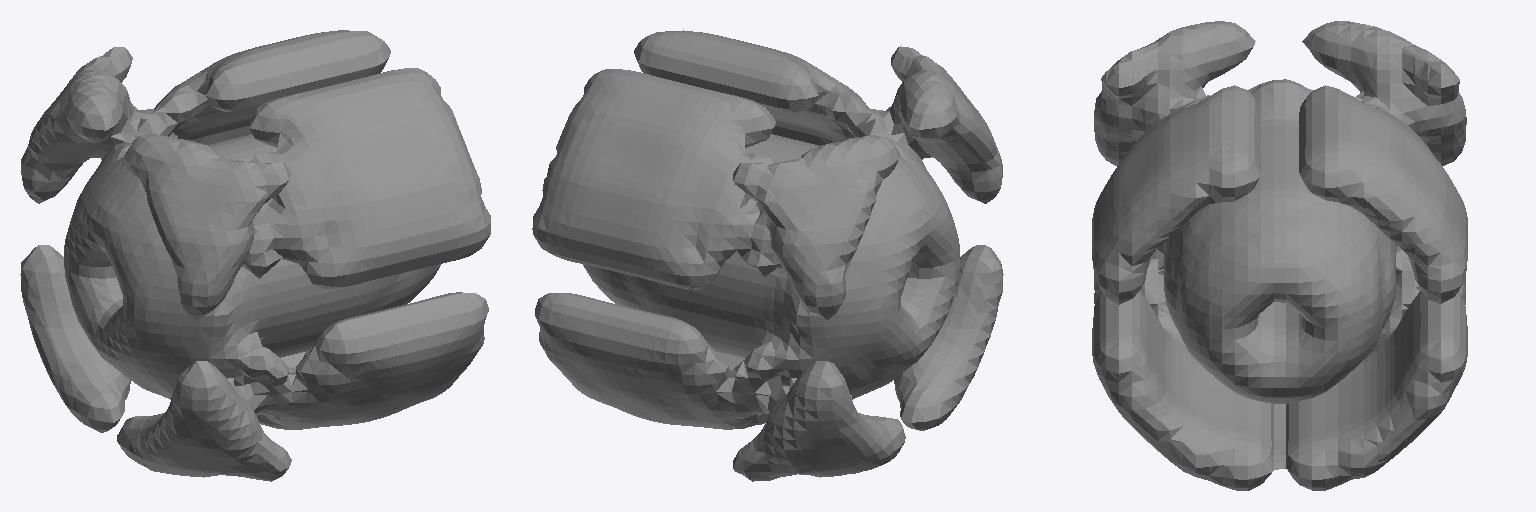
The robot description file, URDF, robot "cube.urdf":
<?xml version="0.0" ?> 
<robot name="cube.urdf"> 
<link name="legobrick"> 
<contact> 
<lateral_friction value="5.0"/> 
<rolling_friction value="0.0"/> 
<contact_cfm value="0.0"/> 
<contact_erp value="1.0"/> 
</contact> 
<inertial> 
<origin rpy="0 0 0" xyz="0.0 0.0 0.0"/> 
<mass value=".01"/> 
<inertia ixx="1" ixy="0" ixz="0" iyy="1" iyz="0" izz="1"/> 
</inertial> 
<visual> 
<origin rpy="1.570796 0 0" xyz="-0.0256472914953872 0.02593692212925499 -0.02562721110331979"/> 
<geometry> 
<mesh filename="I20_2.obj" scale="0.0006993021910813351 0.0006993021910813351 0.0006993021910813351"/> 
</geometry> 
<material name="yellow"> 
<color rgba="0.6 0.6 0.6 1"/> 
</material> 
</visual> 
<collision> 
<origin rpy="1.570796 0 0" xyz="-0.0256472914953872 0.02593692212925499 -0.02562721110331979"/> 
<geometry> 
<mesh filename="I20_2.obj" scale="0.0006993021910813351 0.0006993021910813351 0.0006993021910813351"/> 
</geometry> 
</collision> 
</link> 
</robot>

--- Facts derived from the render (not from the file) ---
Views: 3 orthographic renders of the robot side by side, from view 1: azimuth 30°, elevation 25°; view 2: azimuth 150°, elevation 25°; view 3: azimuth 270°, elevation 25°.
Robot: cube.urdf — 1 links, 0 joints (none); root link legobrick; default pose: all joints at 0.
Visible links, largest first — view 1: legobrick; view 2: legobrick; view 3: legobrick.
Boxes of the visible links, x1,y1,x2,y2 form: legobrick: (20, 30, 490, 481); legobrick: (532, 30, 1003, 481); legobrick: (1092, 21, 1467, 490).
Bounding box of the posed robot: 0.056 × 0.0559 × 0.056 m (x, y, z).
Meshes: 1 distinct files referenced, 1 mesh visuals loaded (1 OBJ).
